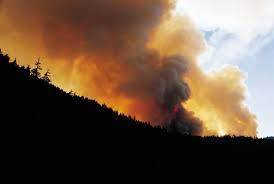yanwu: (1, 0, 198, 132), (107, 61, 259, 137)
